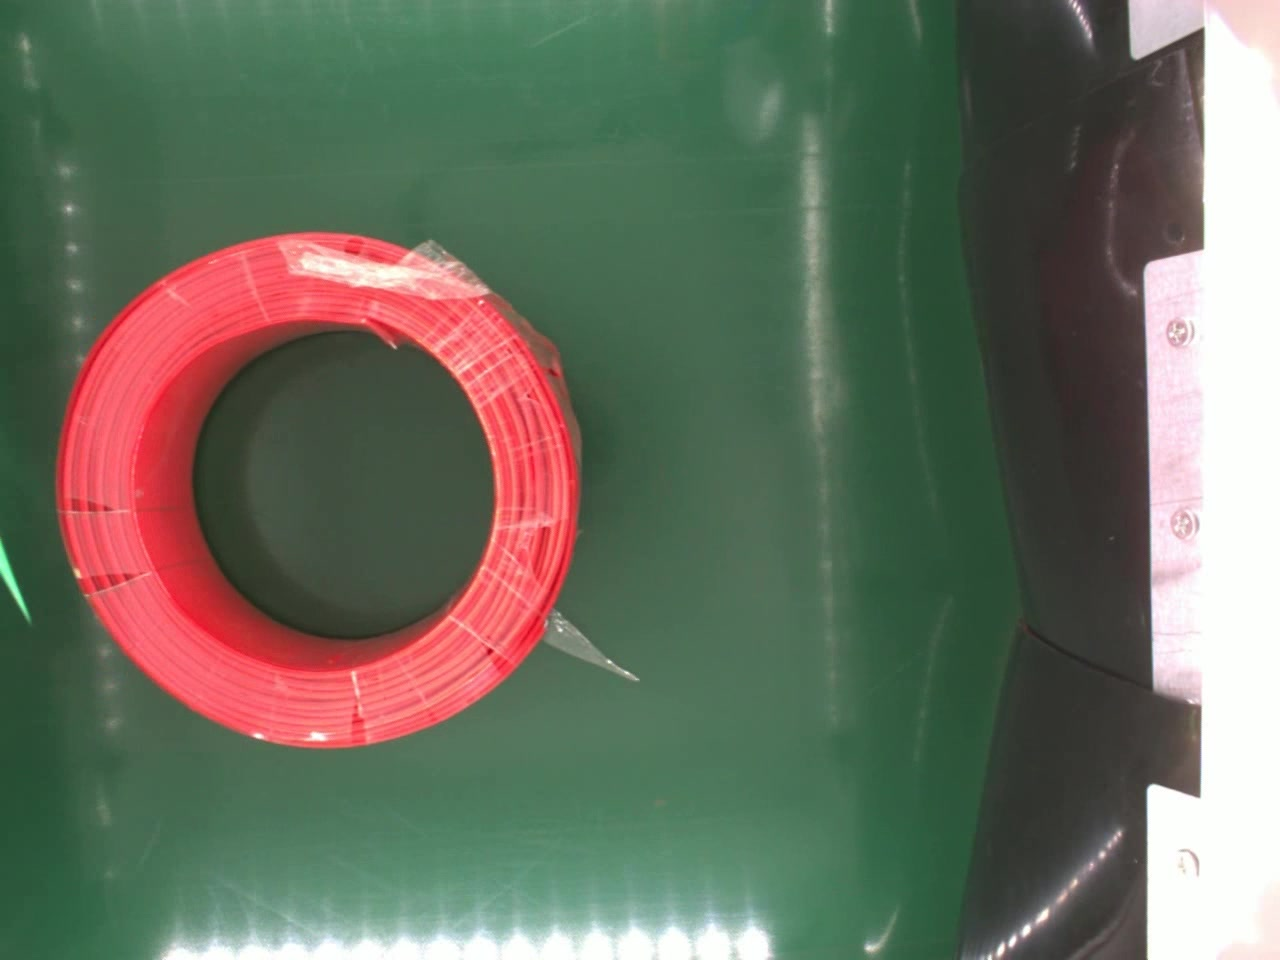red: (50, 228, 584, 750)
